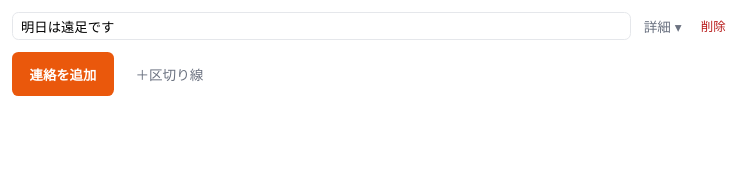
Test: 連絡 — 任意設定（重要/表示日数）を行ごとに畳む › 本文は常時、重要/表示日数は既定で隠れ、「詳細」で現れる
The width and height of the screenshot is (743, 172).
Expected: the field named "1 件目の連絡事項" is shown, [12,12,631,40]
Click the button with aria-label "1 件目の詳細項目": [663, 26] box [639,12,686,40]
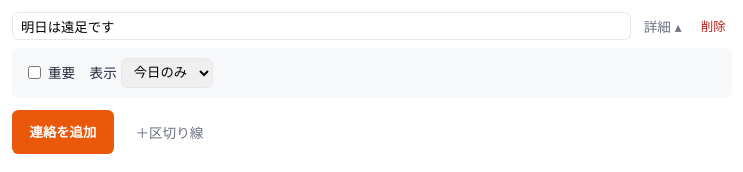
Now the dropdown named "1 件目の表示日数" is shown, box [121,58,213,88]
